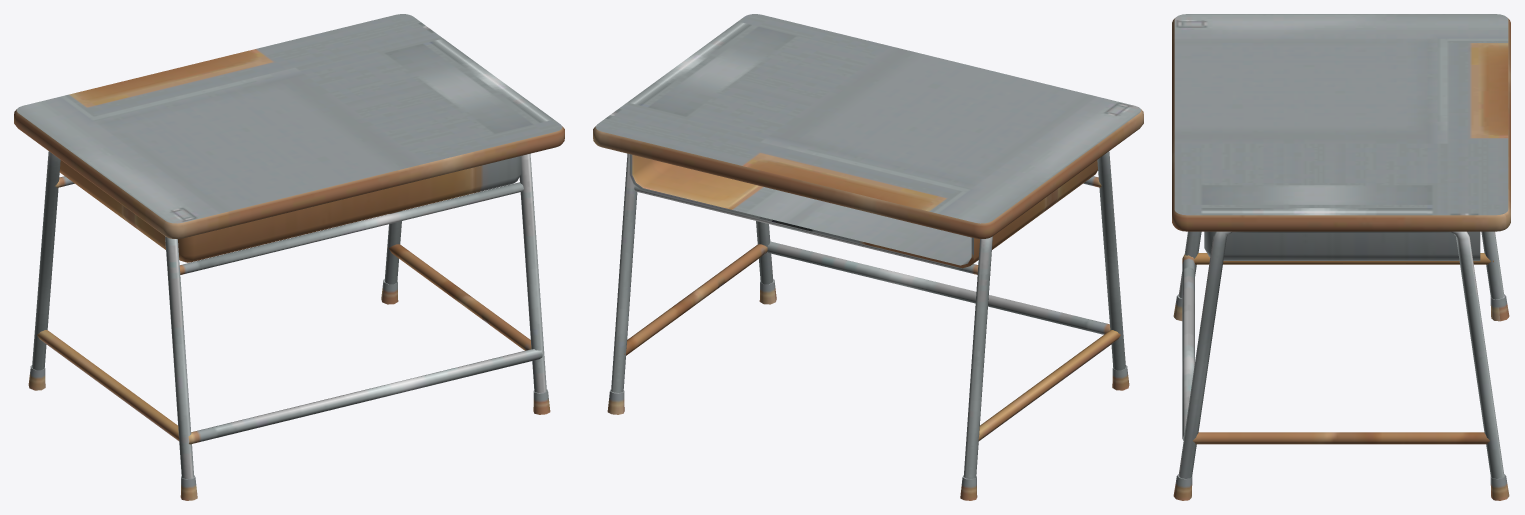
File: School_Desk.glb
The picture shows the model from 3 angles, left to right: view 1: azimuth 30°, elevation 25°; view 2: azimuth 150°, elevation 25°; view 3: azimuth 270°, elevation 25°; orthographic projection. The views are drawn at different scales.
Visible parts, largest first — view 1: School_Desk; view 2: School_Desk; view 3: School_Desk.
Boxes of the visible parts, x1=… form: School_Desk: x1=14, y1=14, x2=564, y2=500; School_Desk: x1=593, y1=14, x2=1143, y2=500; School_Desk: x1=1172, y1=14, x2=1510, y2=500.
Size of the model in its own units: 11.2 by 7.53 by 7.88.
Materials: 4 (4 with a texture image).
